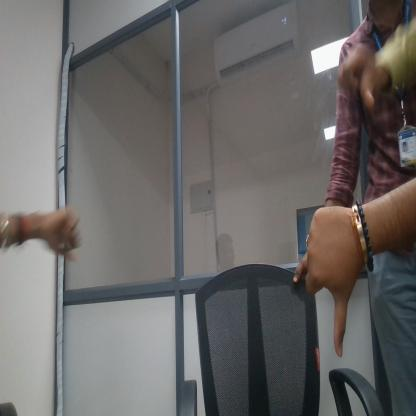Thumbs Down: (304, 191, 363, 364)
